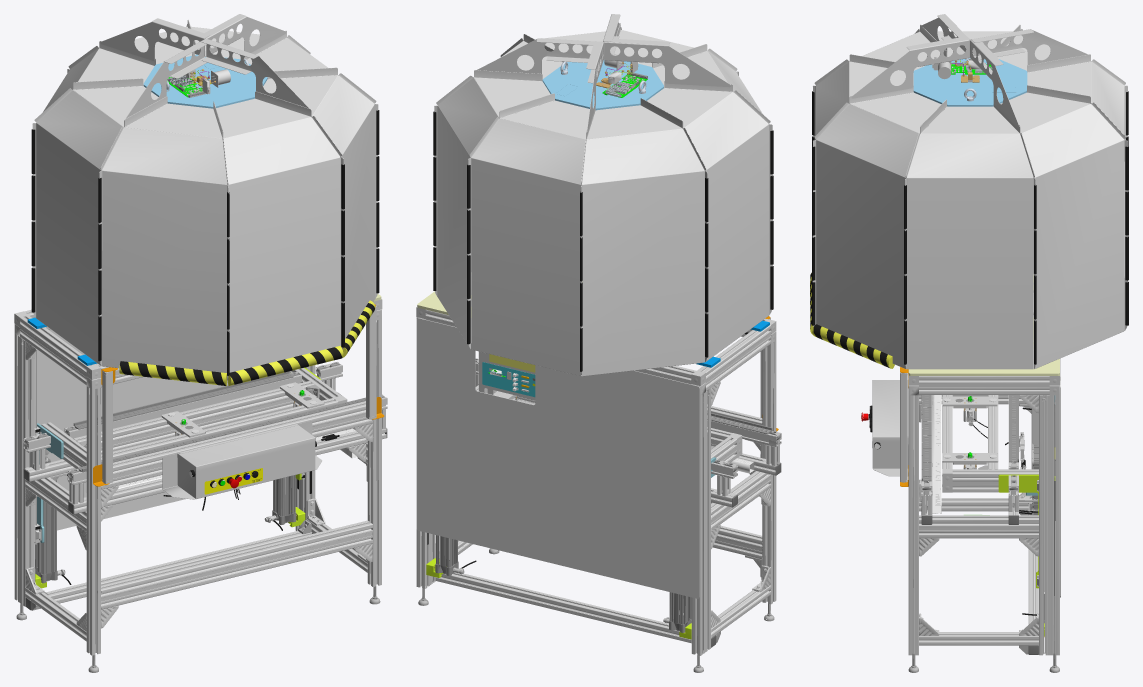
Rendered from Ota$$$.glb.
3 renders of one model, left to right at view 1: azimuth 30°, elevation 25°; view 2: azimuth 150°, elevation 25°; view 3: azimuth 270°, elevation 25°, orthographic. The views are drawn at different scales.
Visible parts, largest first — view 1: 13043-lty1511850_17_asm_OTA_1; view 2: 13043-lty1511850_17_asm_OTA_1; view 3: 13043-lty1511850_17_asm_OTA_1.
Part boxes in pixels (<box>): 13043-lty1511850_17_asm_OTA_1: <box>14,14,387,672</box>; 13043-lty1511850_17_asm_OTA_1: <box>416,14,781,672</box>; 13043-lty1511850_17_asm_OTA_1: <box>810,14,1128,672</box>.
Size of the model in its own units: 1.51 by 2.66 by 1.36.
